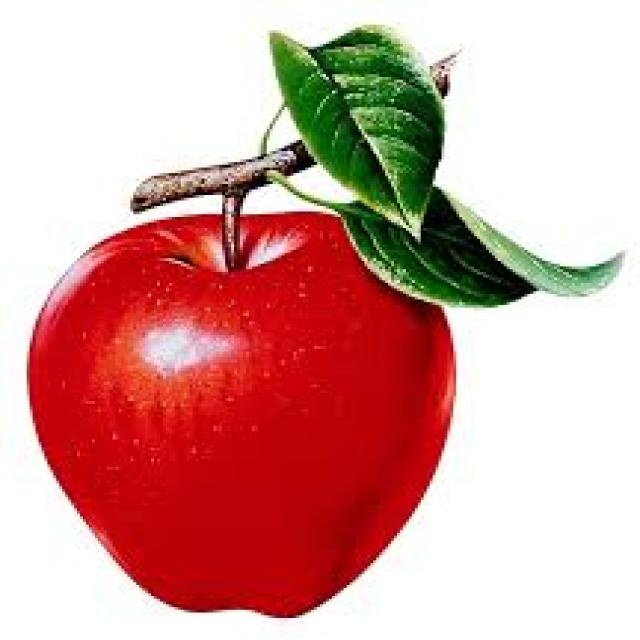agrume: (0, 157, 529, 640)
